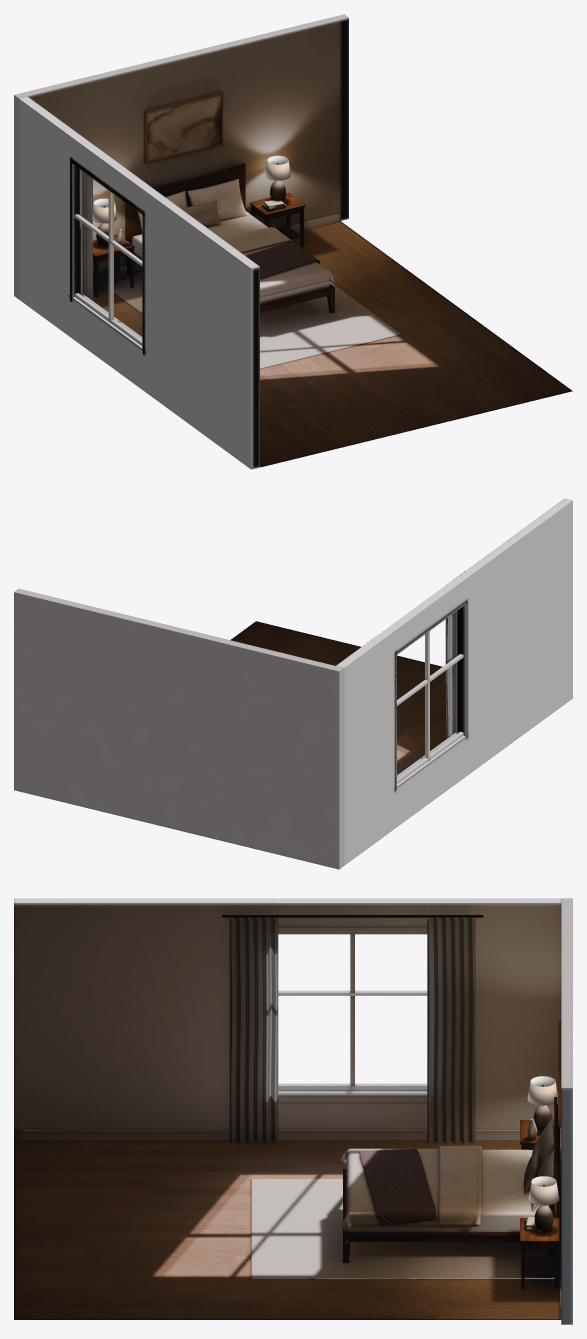
File: walnut-bed.glb
3 views of the same model, one above another, from view 1: azimuth 30°, elevation 25°; view 2: azimuth 150°, elevation 25°; view 3: azimuth 270°, elevation 25° (orthographic). The views are drawn at different scales.
Parts seen in each view (by area): view 1: Wall_left, Wall_back, Floor, Rug, Art_Canvas, Duvet, Mattress, HB_Top, Throw, Pillow1, Win0_CurtainB, Art_Frame (+4 smaller); view 2: Wall_back, Wall_left, Floor, Win0_CurtainA, Win0_MullV; view 3: Wall_left, Floor, Rug, Win0_CurtainA, Win0_CurtainB, Duvet, Wall_back, Mattress, Base_left, Throw, Win0_Apron, Win0_T (+12 smaller).
Part boxes in pixels (left/top/right/bottom): Wall_left: left=19, top=96, right=259, bottom=469; Wall_back: left=14, top=14, right=348, bottom=299; Floor: left=93, top=221, right=572, bottom=467; Rug: left=103, top=271, right=401, bottom=368; Art_Canvas: left=147, top=95, right=221, bottom=161; Duvet: left=222, top=227, right=335, bottom=297; Mattress: left=132, top=211, right=329, bottom=303; HB_Top: left=125, top=163, right=245, bottom=218; Throw: left=246, top=241, right=320, bottom=278; Pillow1: left=187, top=178, right=247, bottom=220; Win0_CurtainB: left=74, top=130, right=92, bottom=300; Art_Frame: left=144, top=92, right=223, bottom=164; Wall_back: left=14, top=588, right=343, bottom=869; Wall_left: left=336, top=498, right=572, bottom=865; Floor: left=230, top=621, right=446, bottom=774; Win0_CurtainA: left=445, top=571, right=464, bottom=738; Win0_MullV: left=425, top=631, right=429, bottom=761; Wall_left: left=14, top=898, right=561, bottom=1130; Floor: left=14, top=1140, right=560, bottom=1319; Rug: left=251, top=1179, right=554, bottom=1279; Win0_CurtainA: left=229, top=917, right=278, bottom=1143; Win0_CurtainB: left=427, top=917, right=475, bottom=1143; Duvet: left=341, top=1145, right=481, bottom=1230; Wall_back: left=561, top=898, right=572, bottom=1324; Mattress: left=348, top=1149, right=549, bottom=1231; Base_left: left=14, top=1130, right=560, bottom=1140; Throw: left=359, top=1148, right=435, bottom=1225; Win0_Apron: left=278, top=1095, right=427, bottom=1102; Win0_T: left=278, top=927, right=427, bottom=934.
Size of what is drawn, in the model's own units: 4.64 by 2.7 by 5.78.
Materials: 104 (104 with a texture image).
